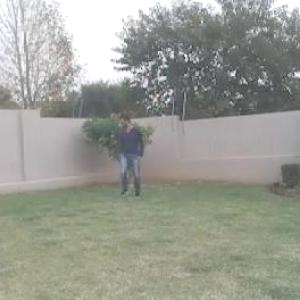follow: (117, 108, 144, 199)
